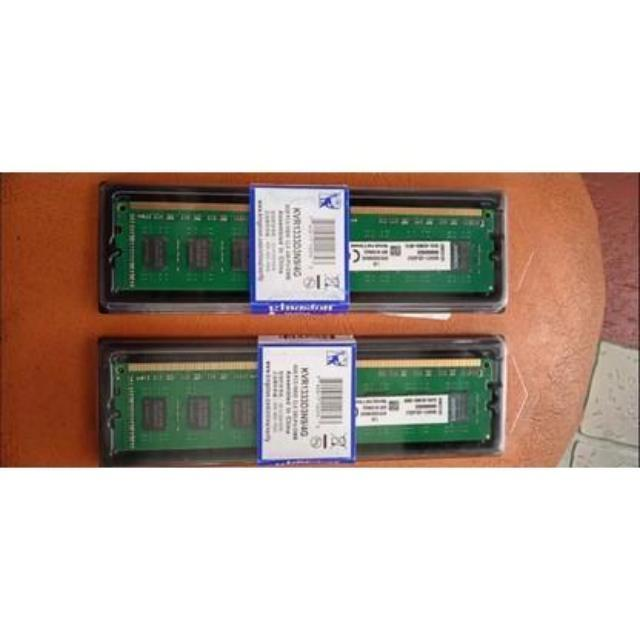RAM: (100, 186, 511, 311), (98, 338, 504, 462)
